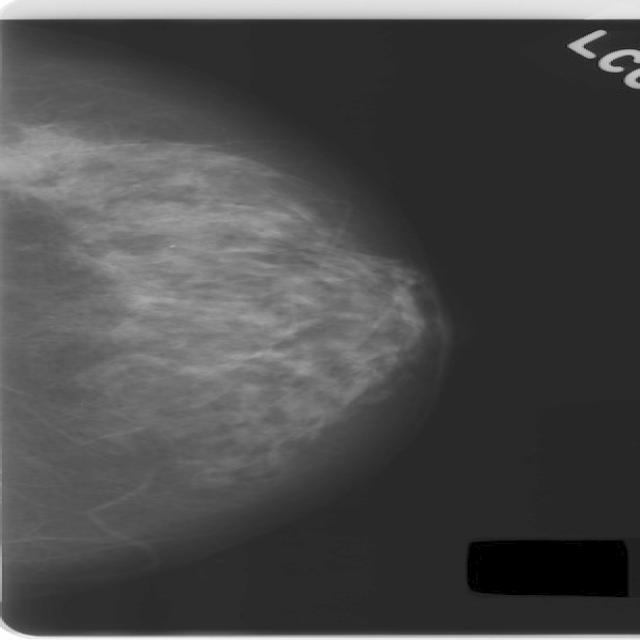tumour: (0, 121, 87, 197)
